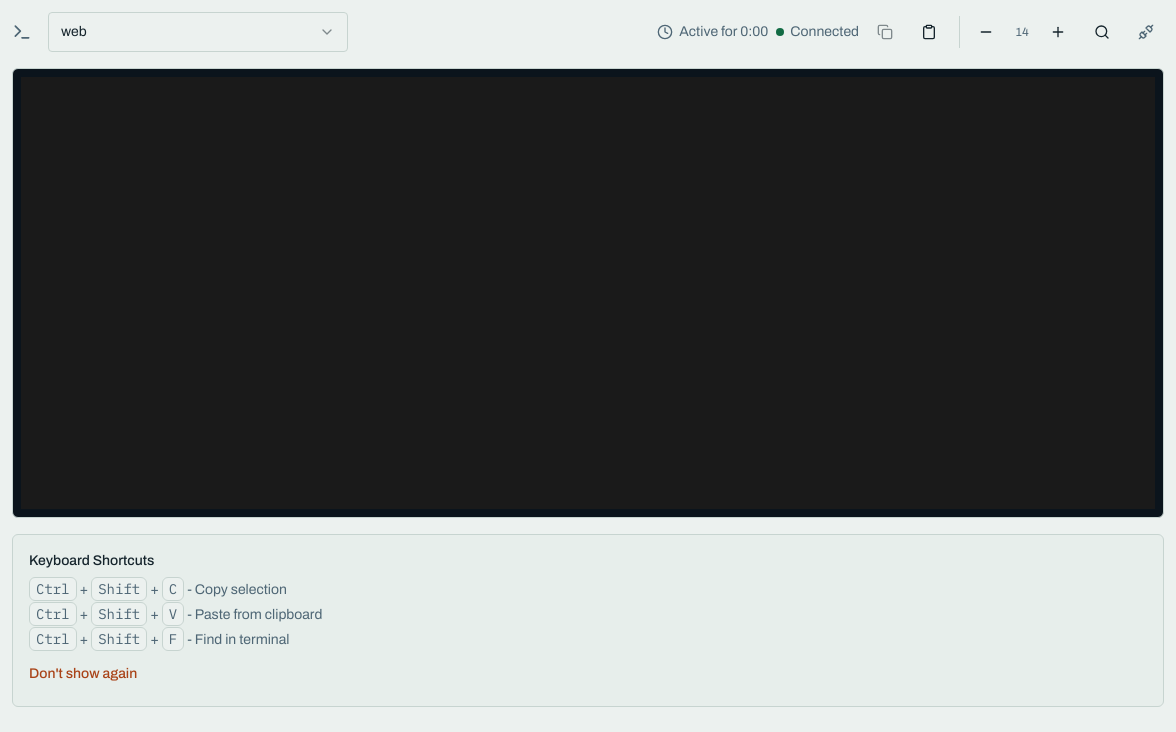
Test: TerminalComponent — keyboard hints › shows the shortcuts panel by default while connected and dismisses it permanently
Expected: the text "Keyboard Shortcuts" is shown, [29,553,154,568]
Click the button "Don't show again".
click(83, 674)  # box [29,658,137,690]
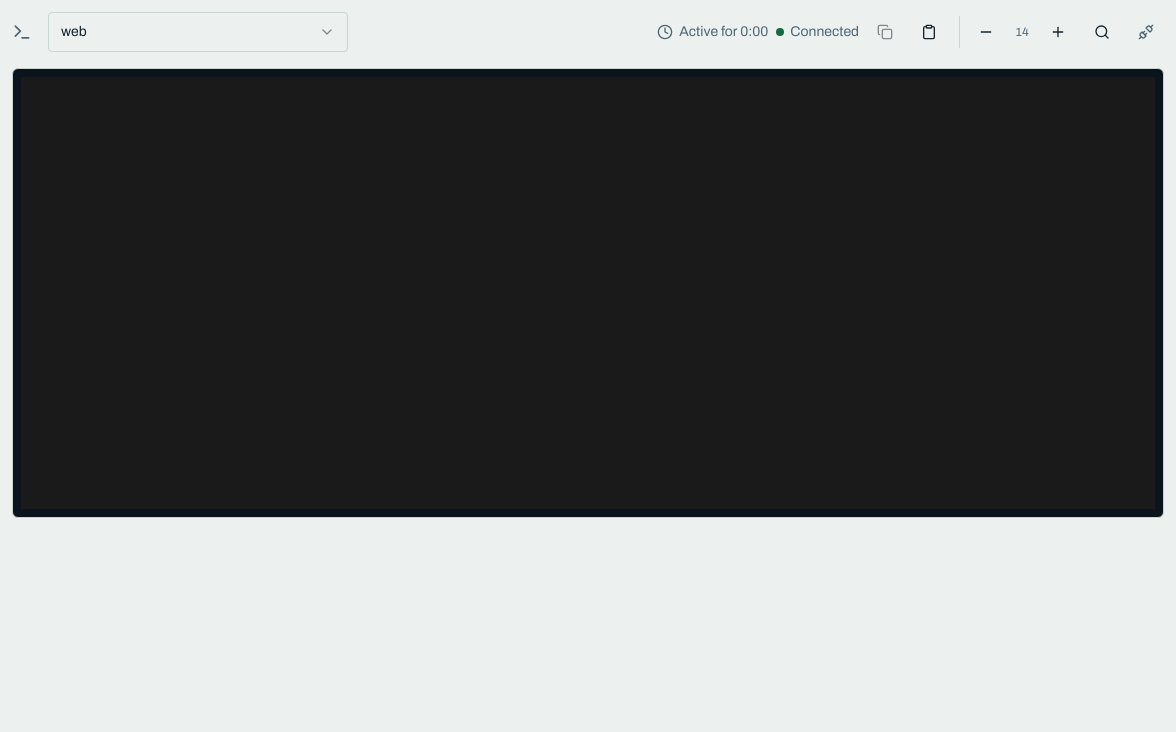
Expected: the text "Keyboard Shortcuts" is gone
